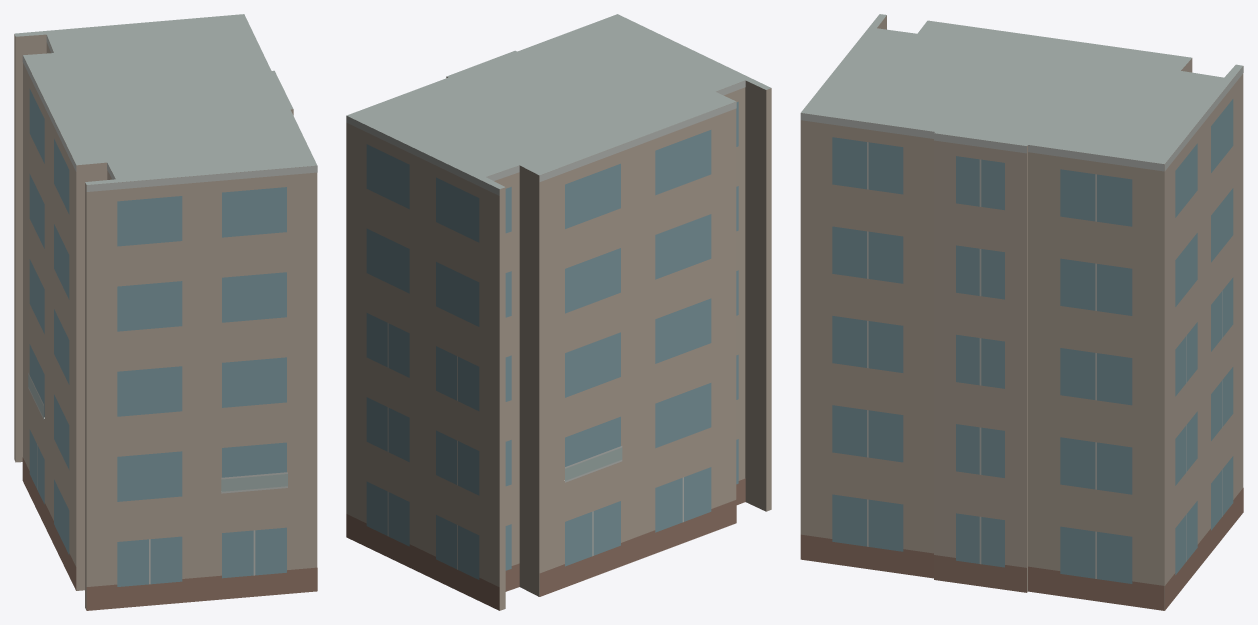
Rendered from survey-upis-32900401.glb.
3 renders of one model, left to right at view 1: azimuth 30°, elevation 25°; view 2: azimuth 150°, elevation 25°; view 3: azimuth 270°, elevation 25°, orthographic. The views are drawn at different scales.
Visible parts, largest first — view 1: survey-upis-32900401.tmp; view 2: survey-upis-32900401.tmp; view 3: survey-upis-32900401.tmp.
Part boxes in pixels (x1=…): survey-upis-32900401.tmp: x1=14, y1=14, x2=317, y2=610; survey-upis-32900401.tmp: x1=346, y1=14, x2=771, y2=610; survey-upis-32900401.tmp: x1=800, y1=14, x2=1243, y2=610.
Size of the model in its own units: 10.76 by 14.9 by 13.4.
